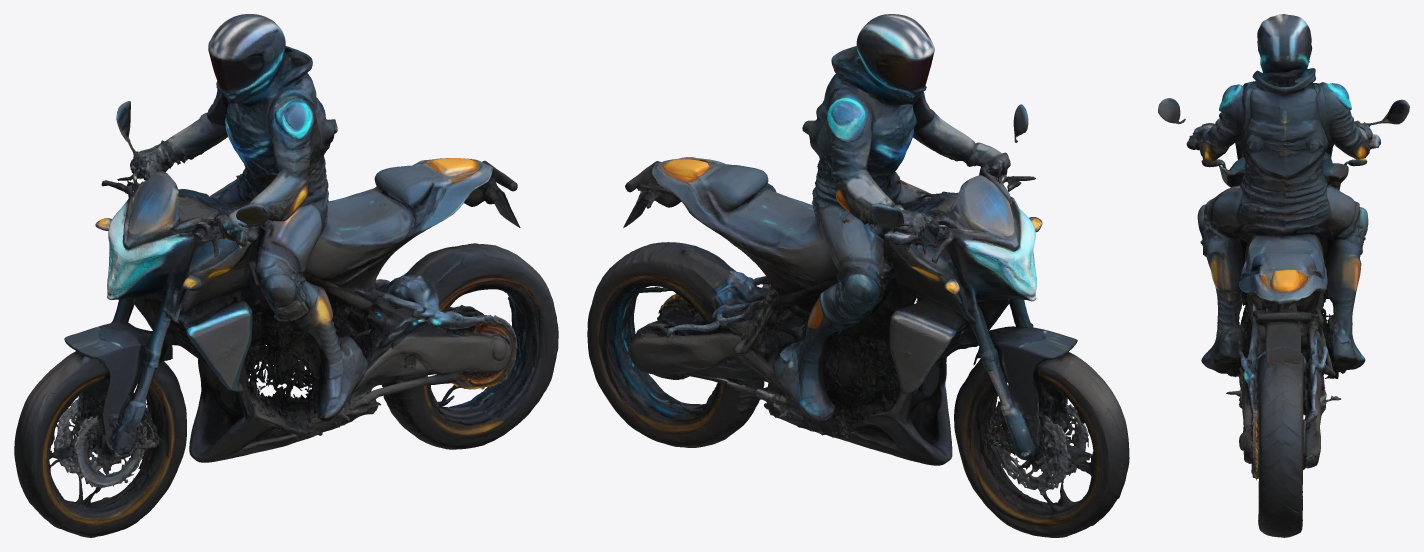
Rendered from scifibike.glb.
3 renders of one model, left to right at view 1: azimuth 30°, elevation 25°; view 2: azimuth 150°, elevation 25°; view 3: azimuth 270°, elevation 25°, orthographic. The views are drawn at different scales.
Parts seen in each view (by area): view 1: temp; view 2: temp; view 3: temp.
Boxes of the visible parts, x1,y1,x2,y2 form: temp: [14, 14, 558, 537]; temp: [587, 14, 1129, 537]; temp: [1158, 14, 1409, 537].
Size of the model in its own units: 2 by 1.72 by 0.9358.
1 material, 1 textured.
